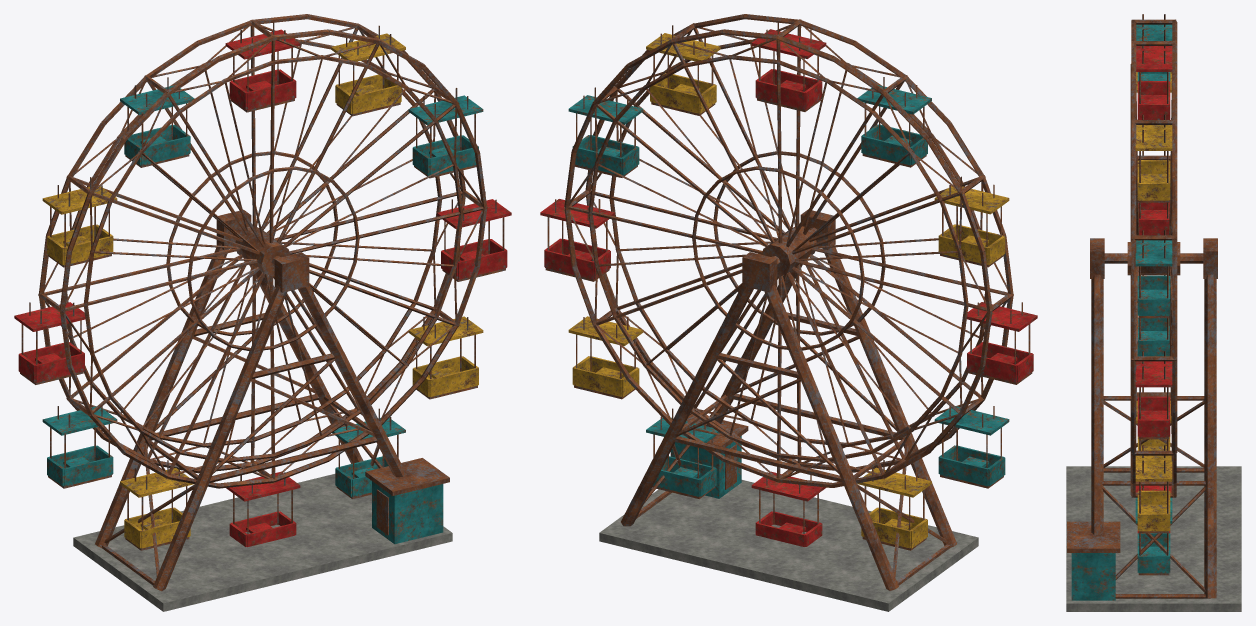
The model's file is diabelski.glb.
3 views of the same model, side by side, from view 1: azimuth 30°, elevation 25°; view 2: azimuth 150°, elevation 25°; view 3: azimuth 270°, elevation 25° (orthographic). The views are drawn at different scales.
Visible parts, largest first — view 1: diabelski_obrecz, diabelski_podstawa, diabelski_gondola_7, diabelski_gondola_6, diabelski_gondola_11, diabelski_gondola_3, diabelski_gondola_2, diabelski_gondola_1, diabelski_gondola_4, diabelski_gondola_8, diabelski_gondola_5, diabelski_gondola_0 (+2 smaller); view 2: diabelski_obrecz, diabelski_podstawa, diabelski_gondola_7, diabelski_gondola_6, diabelski_gondola_11, diabelski_gondola_3, diabelski_gondola_2, diabelski_gondola_1, diabelski_gondola_4, diabelski_gondola_5, diabelski_gondola_8, diabelski_gondola_0 (+2 smaller); view 3: diabelski_podstawa, diabelski_obrecz, diabelski_gondola_11, diabelski_gondola_0, diabelski_gondola_1, diabelski_gondola_2, diabelski_gondola_3, diabelski_gondola_10, diabelski_gondola_7, diabelski_gondola_6, diabelski_gondola_4, diabelski_gondola_8.
Boxes of the visible parts, x1,y1,x2,y2 form: diabelski_obrecz: (38,14,487,488); diabelski_podstawa: (73,209,452,611); diabelski_gondola_7: (42,406,117,488); diabelski_gondola_6: (14,302,85,384); diabelski_gondola_11: (408,309,483,399); diabelski_gondola_3: (225,22,300,112); diabelski_gondola_2: (331,25,405,116); diabelski_gondola_1: (408,88,483,178); diabelski_gondola_4: (120,77,194,167); diabelski_gondola_8: (120,460,194,550); diabelski_gondola_5: (42,177,117,267); diabelski_gondola_0: (437,191,511,281); diabelski_obrecz: (564,14,1013,487); diabelski_podstawa: (599,209,978,611); diabelski_gondola_7: (934,406,1009,488); diabelski_gondola_6: (967,302,1037,384); diabelski_gondola_11: (568,309,643,399); diabelski_gondola_3: (751,21,826,111); diabelski_gondola_2: (646,25,720,115); diabelski_gondola_1: (568,87,643,177); diabelski_gondola_4: (857,77,931,167); diabelski_gondola_5: (934,176,1009,267); diabelski_gondola_8: (857,460,931,550); diabelski_gondola_0: (540,199,614,281); diabelski_podstawa: (1066,238,1241,611); diabelski_obrecz: (1104,19,1203,497); diabelski_gondola_11: (1135,445,1172,533); diabelski_gondola_0: (1135,351,1172,439); diabelski_gondola_1: (1135,230,1172,318); diabelski_gondola_2: (1135,114,1172,202); diabelski_gondola_3: (1136,35,1172,119); diabelski_gondola_10: (1135,487,1172,575); diabelski_gondola_7: (1137,275,1169,356); diabelski_gondola_6: (1138,151,1169,235); diabelski_gondola_4: (1136,14,1172,81); diabelski_gondola_8: (1136,387,1171,450).
Size of the model in its own units: 14.72 by 15.17 by 4.8.
Materials: 5 (5 with a texture image).
